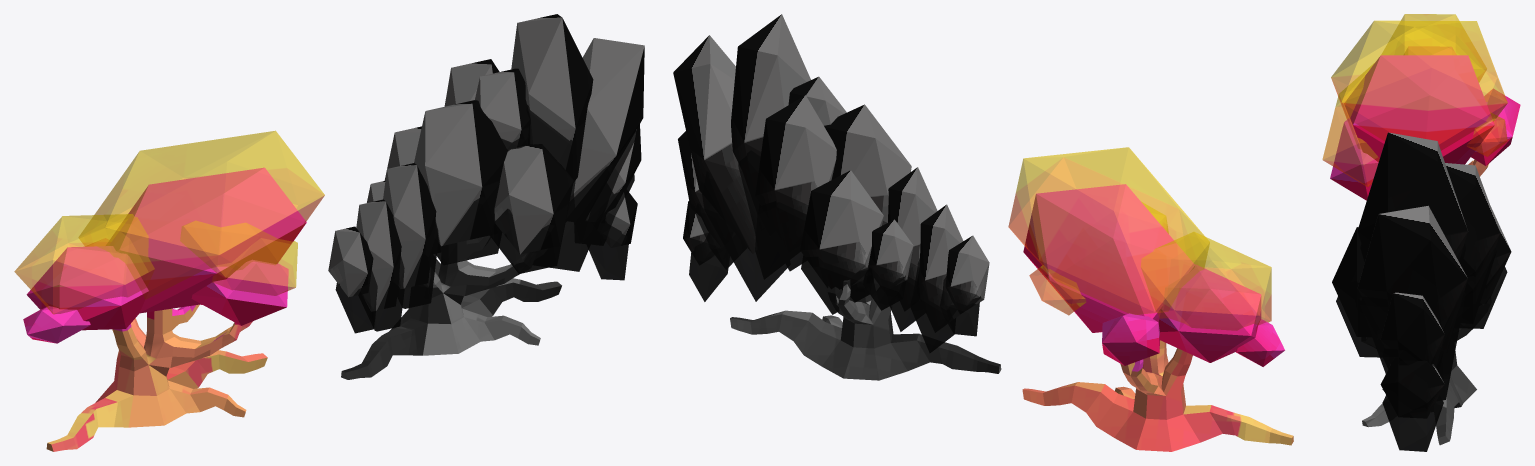
Rendered from treetest.fbx.
3 views of the same model, side by side, from view 1: azimuth 30°, elevation 25°; view 2: azimuth 150°, elevation 25°; view 3: azimuth 270°, elevation 25° (orthographic).
Visible parts, largest first — view 1: pPlatonic31, pPlatonic14; view 2: pPlatonic31, pPlatonic14; view 3: pPlatonic31, pPlatonic14.
Boxes of the visible parts, left/top/right/bottom form: pPlatonic31: left=328, top=14, right=644, bottom=379; pPlatonic14: left=14, top=130, right=324, bottom=451; pPlatonic31: left=673, top=14, right=1001, bottom=380; pPlatonic14: left=1008, top=147, right=1293, bottom=451; pPlatonic31: left=1332, top=132, right=1511, bottom=451; pPlatonic14: left=1322, top=14, right=1520, bottom=200.
Bounding box in the file's own units: 243 × 119 × 68.4.
Materials: 6 (5 with a texture image).
